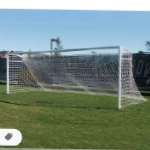goals: (3, 45, 150, 109)
